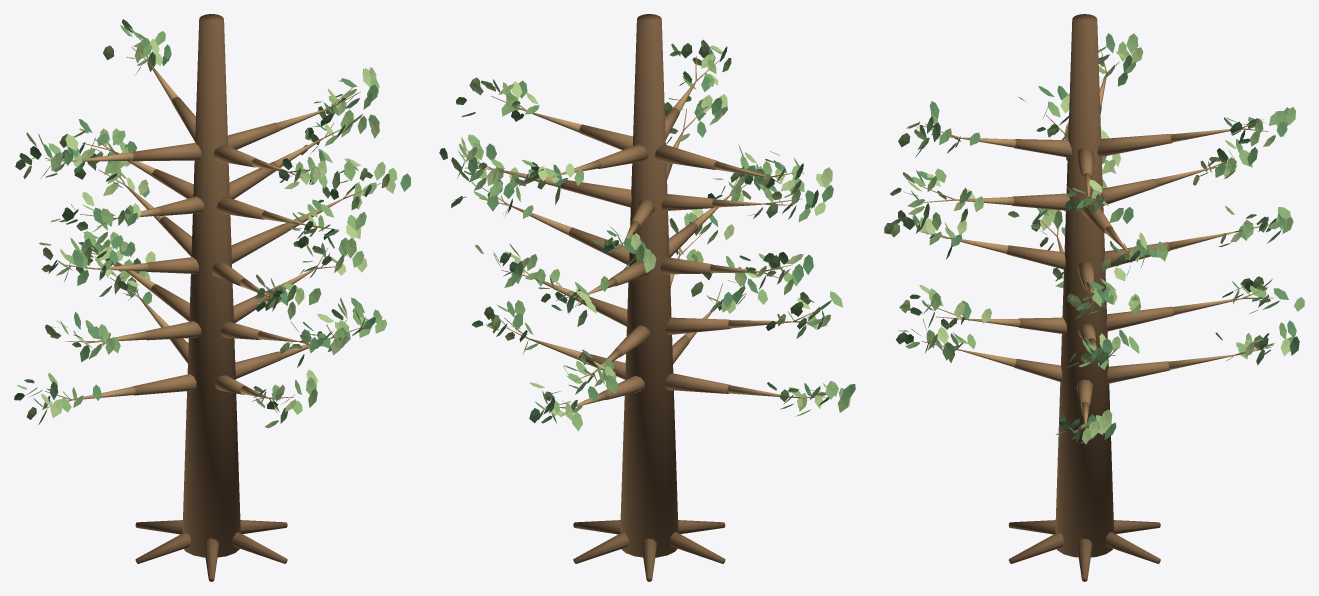
File: leafy_tree_b.glb
3 renders of one model, left to right at view 1: azimuth 30°, elevation 25°; view 2: azimuth 150°, elevation 25°; view 3: azimuth 270°, elevation 25°, orthographic.
Visible parts, largest first — view 1: leafy_tree_b_trunk, leafy_tree_b_branch_4_2_a, leafy_tree_b_branch_0_2_a, leafy_tree_b_branch_2_0_a, leafy_tree_b_branch_1_2_a, leafy_tree_b_branch_2_2_a, leafy_tree_b_branch_4_0_a, leafy_tree_b_branch_3_0_a, leafy_tree_b_branch_3_3_a, root_3, root_5, leafy_tree_b_branch_0_0_a (+7 smaller); view 2: leafy_tree_b_trunk, leafy_tree_b_branch_3_0_a, leafy_tree_b_branch_0_2_a, leafy_tree_b_branch_1_2_a, leafy_tree_b_branch_4_2_a, leafy_tree_b_branch_4_0_a, leafy_tree_b_branch_2_0_a, leafy_tree_b_branch_3_2_a, leafy_tree_b_branch_4_1_a, leafy_tree_b_branch_2_2_a, root_1, root_3 (+1 smaller); view 3: leafy_tree_b_trunk, leafy_tree_b_branch_4_1_a, leafy_tree_b_branch_1_1_a, leafy_tree_b_branch_0_1_a, leafy_tree_b_branch_2_3_a, leafy_tree_b_branch_4_3_a, leafy_tree_b_branch_3_3_a, leafy_tree_b_branch_3_1_a, root_1, root_5, leafy_tree_b_branch_0_3_a, leafy_tree_b_branch_1_3_a.
Boxes of the visible parts, box(x1,y1,x2,y2) form: leafy_tree_b_trunk: box(182, 14, 240, 557); leafy_tree_b_branch_4_2_a: box(131, 142, 201, 161); leafy_tree_b_branch_0_2_a: box(132, 374, 196, 395); leafy_tree_b_branch_2_0_a: box(231, 224, 287, 263); leafy_tree_b_branch_1_2_a: box(145, 321, 201, 340); leafy_tree_b_branch_2_2_a: box(146, 257, 198, 273); leafy_tree_b_branch_4_0_a: box(228, 122, 279, 149); leafy_tree_b_branch_3_0_a: box(229, 162, 277, 199); leafy_tree_b_branch_3_3_a: box(216, 197, 266, 219); root_3: box(135, 532, 190, 563); root_5: box(231, 532, 287, 563); leafy_tree_b_branch_0_0_a: box(235, 351, 281, 378); leafy_tree_b_trunk: box(620, 14, 678, 557); leafy_tree_b_branch_3_0_a: box(560, 180, 631, 207); leafy_tree_b_branch_0_2_a: box(665, 373, 730, 393); leafy_tree_b_branch_1_2_a: box(665, 317, 730, 334); leafy_tree_b_branch_4_2_a: box(654, 144, 717, 169); leafy_tree_b_branch_4_0_a: box(579, 124, 632, 150); leafy_tree_b_branch_2_0_a: box(568, 227, 629, 264); leafy_tree_b_branch_3_2_a: box(661, 194, 714, 210); leafy_tree_b_branch_4_1_a: box(596, 144, 648, 168); leafy_tree_b_branch_2_2_a: box(660, 257, 712, 274); root_1: box(573, 532, 628, 563); root_3: box(669, 532, 725, 563); leafy_tree_b_trunk: box(1055, 14, 1114, 557); leafy_tree_b_branch_4_1_a: box(1097, 133, 1172, 156); leafy_tree_b_branch_1_1_a: box(1106, 306, 1173, 331); leafy_tree_b_branch_0_1_a: box(1107, 361, 1169, 383); leafy_tree_b_branch_2_3_a: box(1006, 245, 1065, 269); leafy_tree_b_branch_4_3_a: box(1014, 139, 1071, 157); leafy_tree_b_branch_3_3_a: box(1012, 193, 1069, 210); leafy_tree_b_branch_3_1_a: box(1103, 179, 1156, 205); root_1: box(1105, 532, 1160, 563); root_5: box(1008, 532, 1063, 563); leafy_tree_b_branch_0_3_a: box(1014, 359, 1061, 381); leafy_tree_b_branch_1_3_a: box(1018, 317, 1066, 334).
Bounding box in the file's own units: 3.99 × 5.06 × 3.66.
